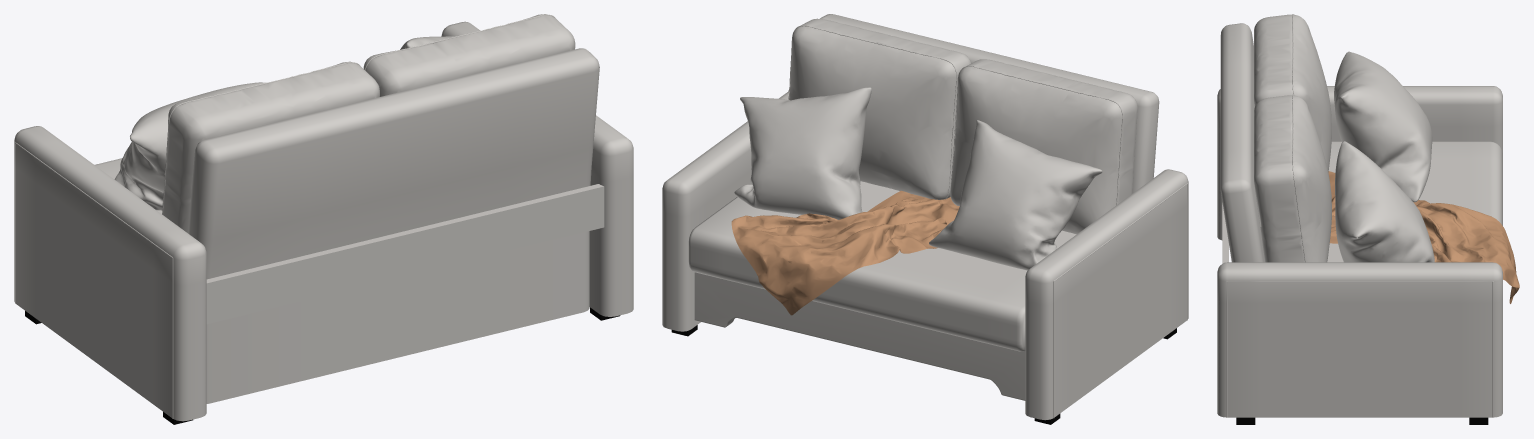
Rendered from Bekkseda.fbx.
3 views of the same model, side by side, from view 1: azimuth 30°, elevation 25°; view 2: azimuth 150°, elevation 25°; view 3: azimuth 270°, elevation 25° (orthographic). The views are drawn at different scales.
Parts seen in each view (by area): view 1: sofa, pillow; view 2: sofa, pillow, pled; view 3: sofa, pillow, pled, metal.
Part boxes in pixels (x1,y1,x2,y2): sofa: (14,14,633,421); pillow: (114,35,458,210); sofa: (662,14,1188,420); pillow: (734,87,1102,270); pled: (731,190,959,315); sofa: (1217,14,1502,417); pillow: (1334,51,1434,262); pled: (1328,171,1519,303); metal: (1236,417,1488,424).
Size of the model in its own units: 143 by 85.6 by 96.33.
